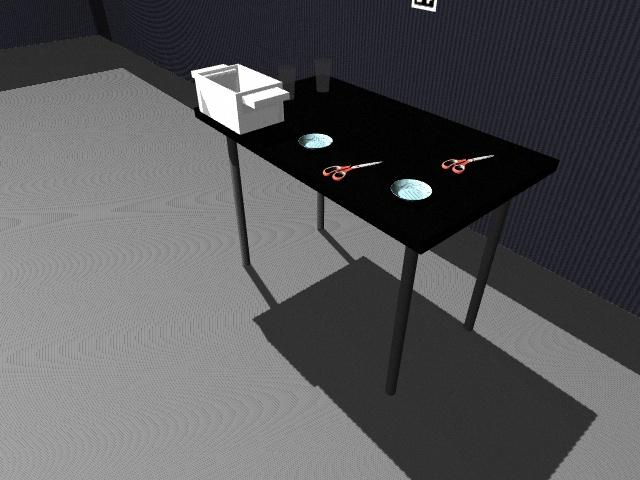cup: (314, 58, 332, 93), (278, 65, 296, 98)
plate: (388, 178, 434, 202), (298, 132, 334, 149)
scissors: (324, 161, 383, 182), (443, 154, 495, 174)
